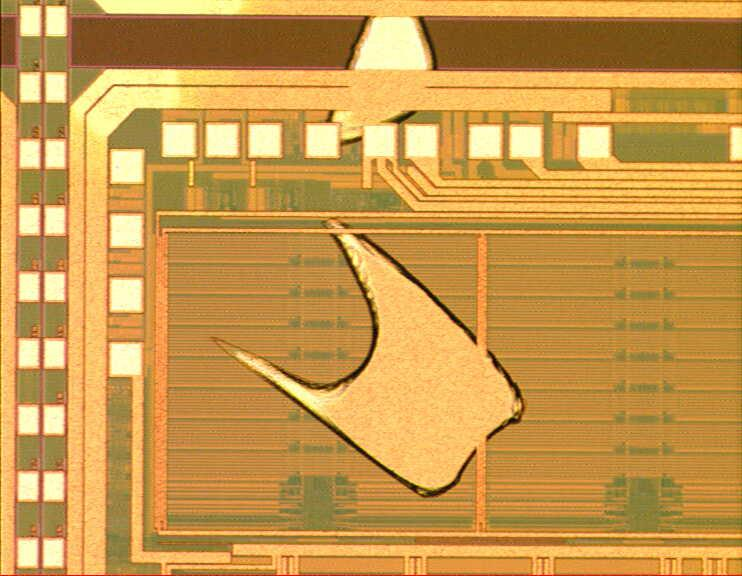COATING BAD: (210, 9, 530, 501)
